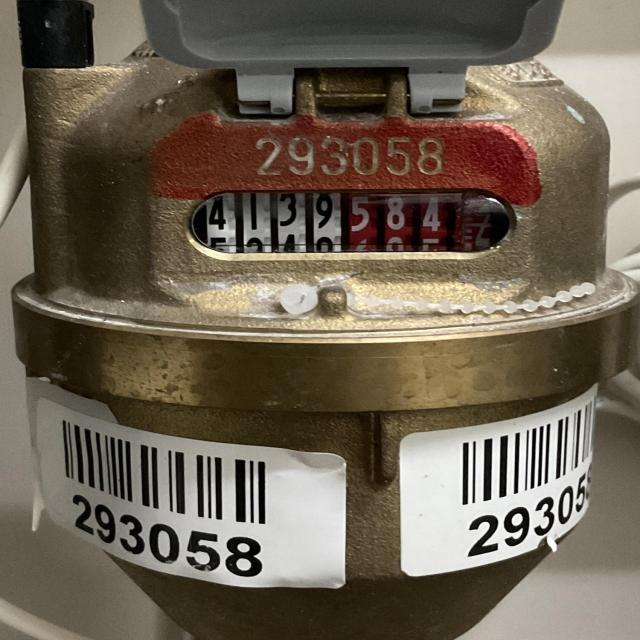gaz_meter: (37, 58, 621, 324)
indication: (192, 188, 494, 254)
